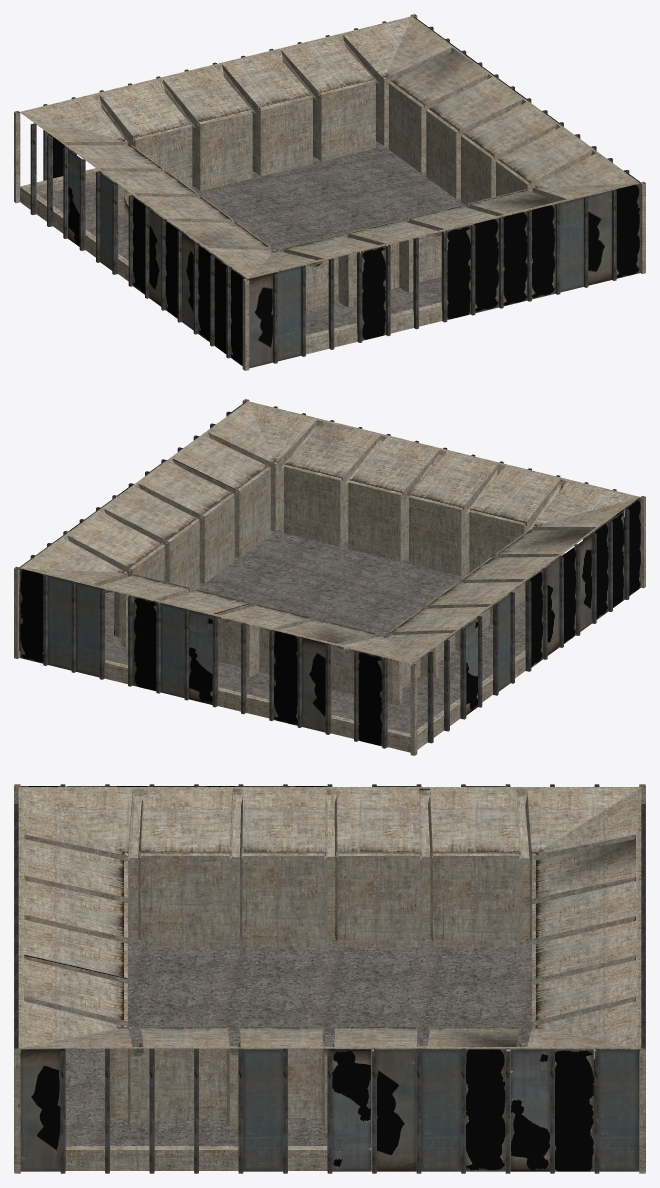
Rendered from Build2_el2.fbx.
3 views of the same model, one above another, from view 1: azimuth 30°, elevation 25°; view 2: azimuth 150°, elevation 25°; view 3: azimuth 270°, elevation 25° (orthographic). The views are drawn at different scales.
Parts seen in each view (by area): view 1: 1_floor; view 2: 1_floor; view 3: 1_floor.
Part boxes in pixels (x1,y1,x2,y2): 1_floor: (14, 14, 645, 370); 1_floor: (14, 399, 645, 755); 1_floor: (14, 784, 645, 1173).
Size of the model in its own units: 35.67 by 7.62 by 35.67.
